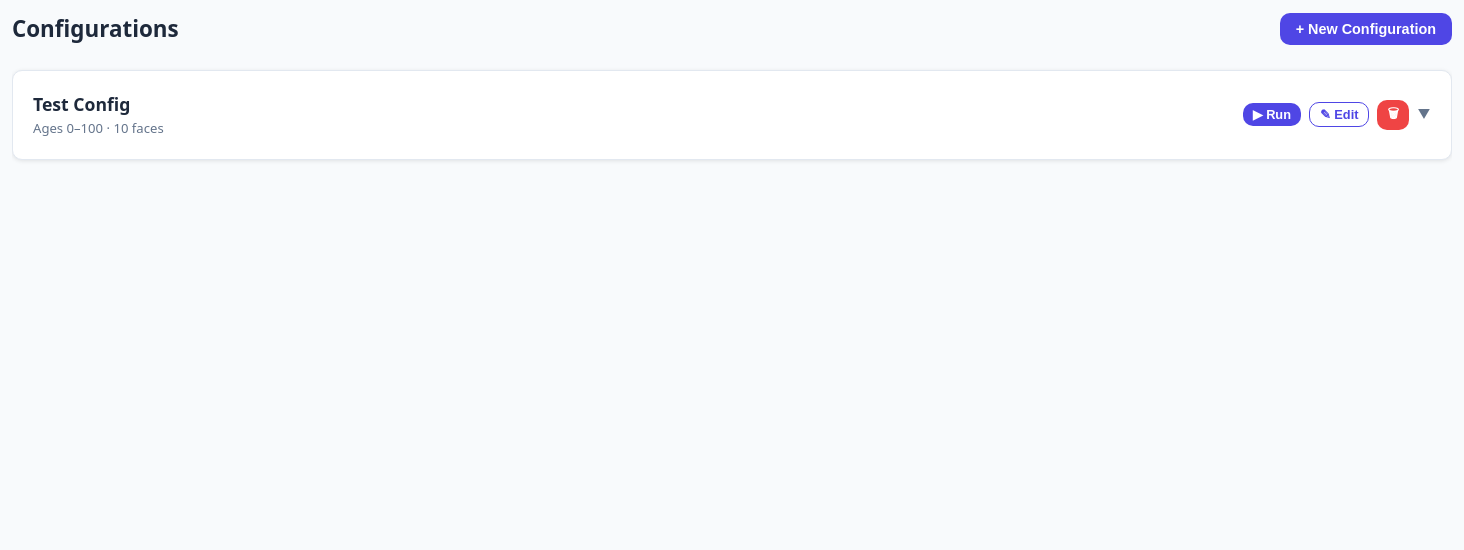
Test: ConfigList expand/collapse › renders history chart when history is non-empty
Click the text "Test Config": x=82, y=104 [33, 92, 130, 116]
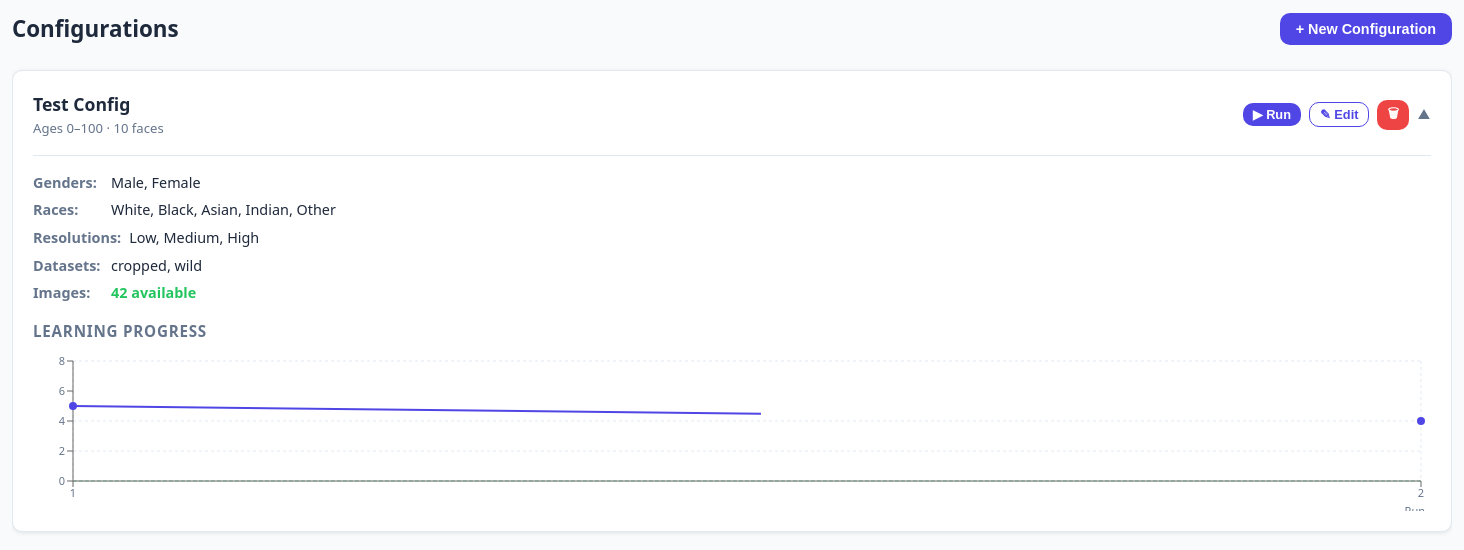
Result: the heading "Learning Progress" is shown at [33, 321, 207, 341]
